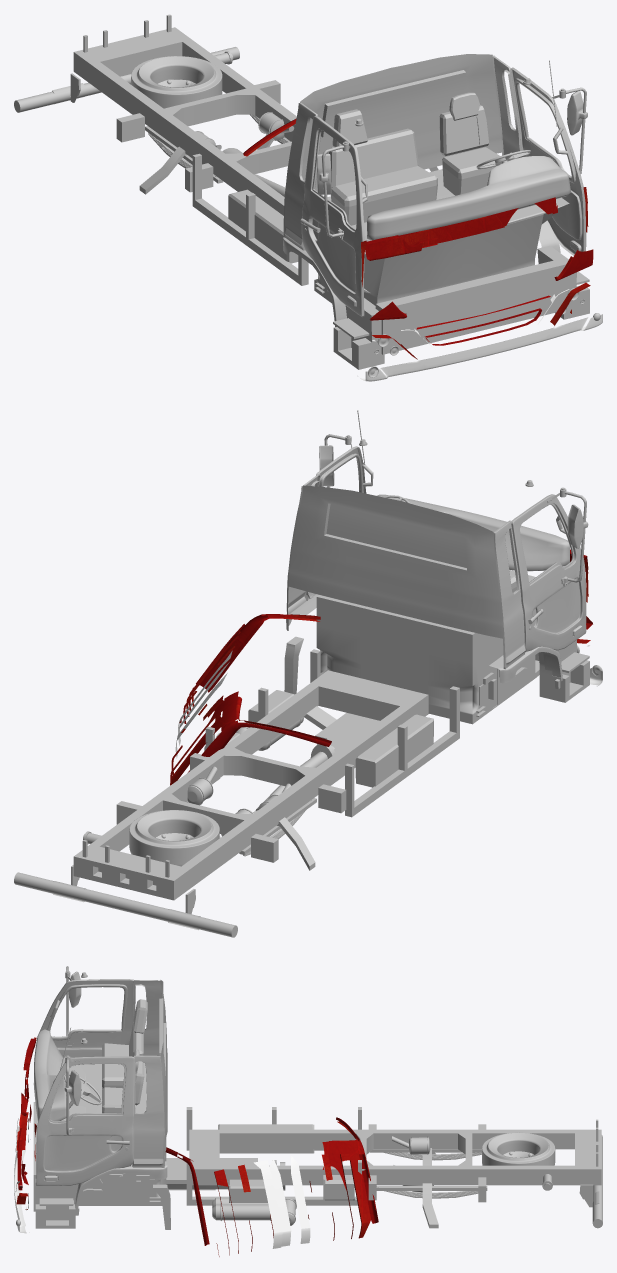
The model's file is truck.fbx.
3 views of the same model, one above another, from view 1: azimuth 30°, elevation 25°; view 2: azimuth 150°, elevation 25°; view 3: azimuth 270°, elevation 25° (orthographic). The views are drawn at different scales.
Visible parts, largest first — view 1: pasted__polySurface453, polySurface30, polySurface2, polySurface93, polySurface96, pasted__polySurface451, pasted__polySurface421, polySurface102, polySurface85, pasted__polySurface475, polySurface101, polySurface53 (+19 smaller); view 2: pasted__polySurface453, polySurface30, polySurface2, pasted__polySurface451, pasted__polySurface427, polySurface85, polySurface39, polySurface53, polySurface96, polySurface110, polySurface24, polySurface21 (+4 smaller); view 3: polySurface30, pasted__polySurface475, pasted__polySurface427, pasted__polySurface453, polySurface2, pasted__polySurface451, polySurface96, polySurface85, polySurface10, pasted__polySurface421, polySurface110, polySurface44 (+17 smaller).
Part boxes in pixels (x1,y1,x2,y2): pasted__polySurface453: [283, 54, 521, 250]; polySurface30: [73, 27, 296, 215]; polySurface2: [314, 169, 569, 305]; polySurface93: [375, 258, 568, 354]; polySurface96: [367, 156, 570, 240]; pasted__polySurface451: [301, 115, 364, 316]; pasted__polySurface421: [358, 282, 602, 381]; polySurface102: [330, 166, 437, 225]; polySurface85: [131, 56, 222, 105]; pasted__polySurface475: [510, 67, 586, 255]; polySurface101: [329, 128, 418, 187]; polySurface53: [192, 153, 308, 285]; pasted__polySurface453: [286, 474, 525, 669]; polySurface30: [73, 670, 428, 900]; polySurface2: [304, 570, 539, 753]; pasted__polySurface451: [511, 494, 586, 651]; pasted__polySurface427: [170, 614, 331, 785]; polySurface85: [129, 810, 219, 858]; polySurface39: [14, 872, 237, 937]; polySurface53: [345, 686, 459, 817]; polySurface96: [377, 494, 569, 571]; polySurface110: [355, 714, 433, 787]; polySurface24: [538, 640, 589, 702]; polySurface21: [489, 646, 562, 683]; polySurface30: [189, 1129, 601, 1185]; pasted__polySurface475: [36, 1056, 134, 1185]; pasted__polySurface427: [165, 1117, 378, 1256]; pasted__polySurface453: [132, 980, 167, 1167]; polySurface2: [61, 1057, 257, 1205]; pasted__polySurface451: [40, 979, 133, 1057]; polySurface96: [33, 1029, 66, 1121]; polySurface85: [482, 1132, 555, 1165]; polySurface10: [35, 1179, 78, 1228]; pasted__polySurface421: [14, 1112, 30, 1233]; polySurface110: [218, 1124, 314, 1153]; polySurface44: [186, 1160, 361, 1205].
Bounding box in the file's own units: 8.55 × 6.95 × 17.61.
